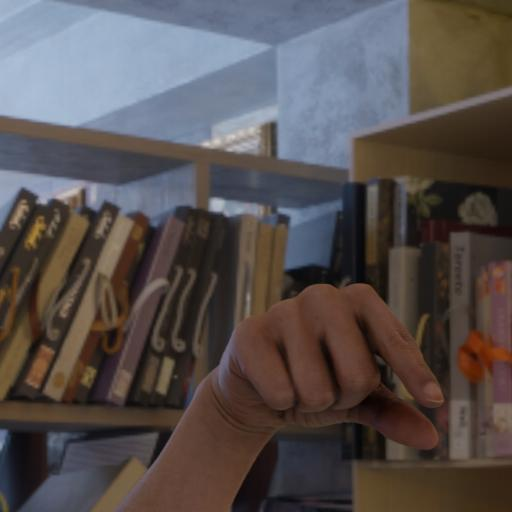Q: (187, 270, 462, 488)
